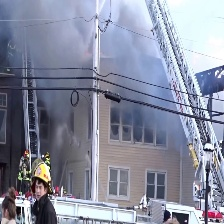smoke: (1, 1, 168, 125)
